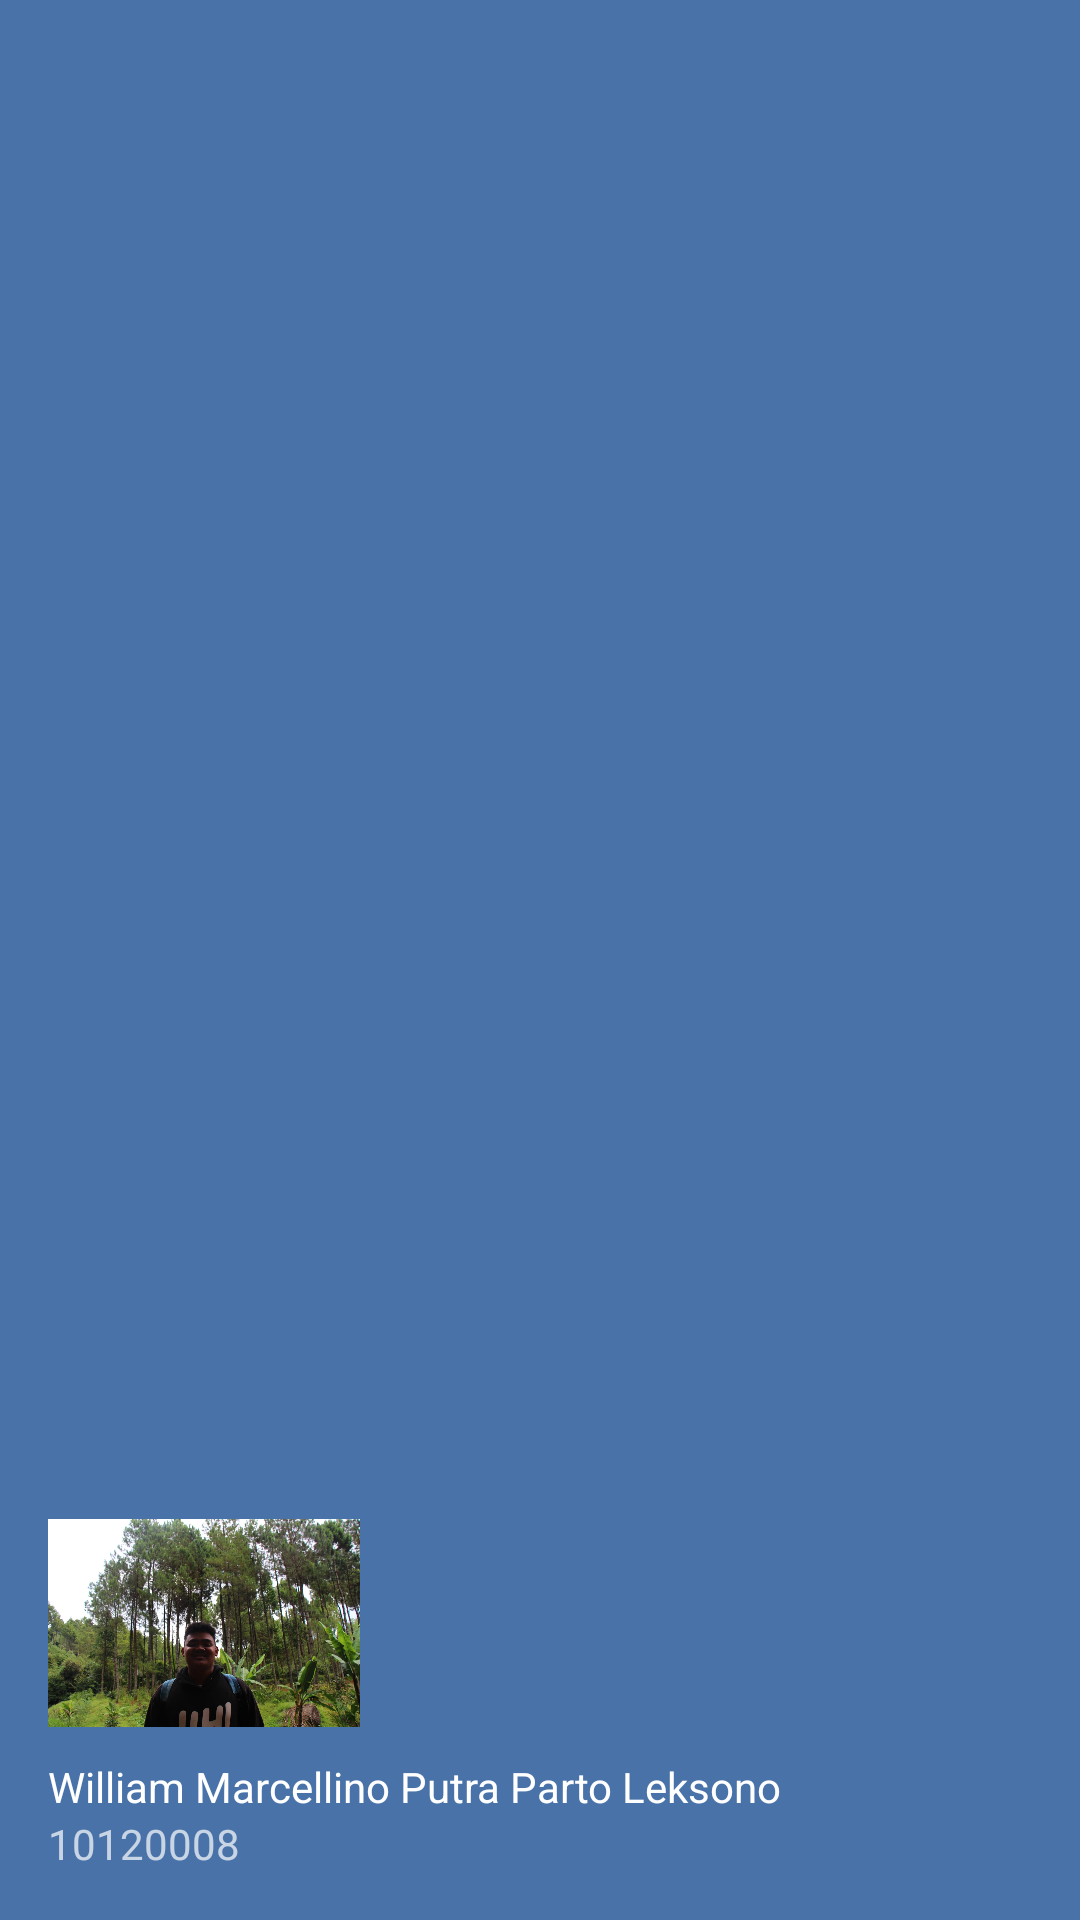

Where icons sit on this 1080px×1920px app screen, as (x1,y1,x2,y2):
profil: (48,1519,360,1727)
